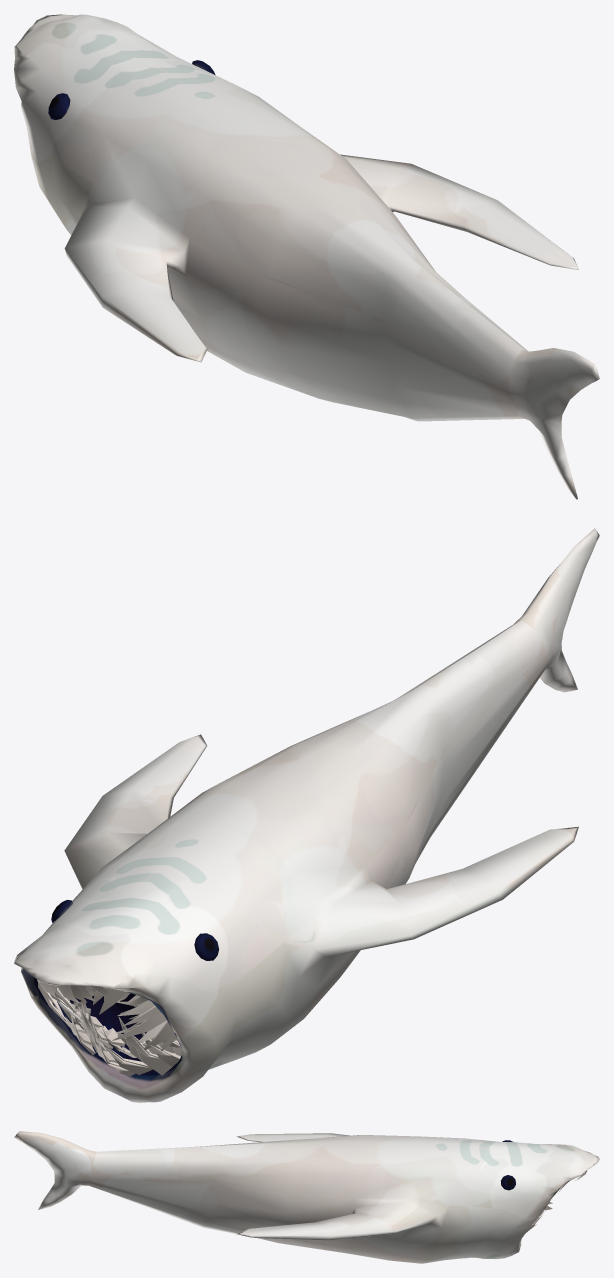
The model's file is Leviathan.fbx.
3 renders of one model, top to bottom at view 1: azimuth 30°, elevation 25°; view 2: azimuth 150°, elevation 25°; view 3: azimuth 270°, elevation 25°, orthographic. The views are drawn at different scales.
Visible parts, largest first — view 1: Object001; view 2: Object001; view 3: Object001.
Part boxes in pixels (x1,y1,x2,y2): Object001: [14, 14, 599, 499]; Object001: [14, 528, 599, 1102]; Object001: [14, 1131, 599, 1263].
Bounding box in the file's own units: 369 × 215 × 884.
Materials: 1 (1 with a texture image).
